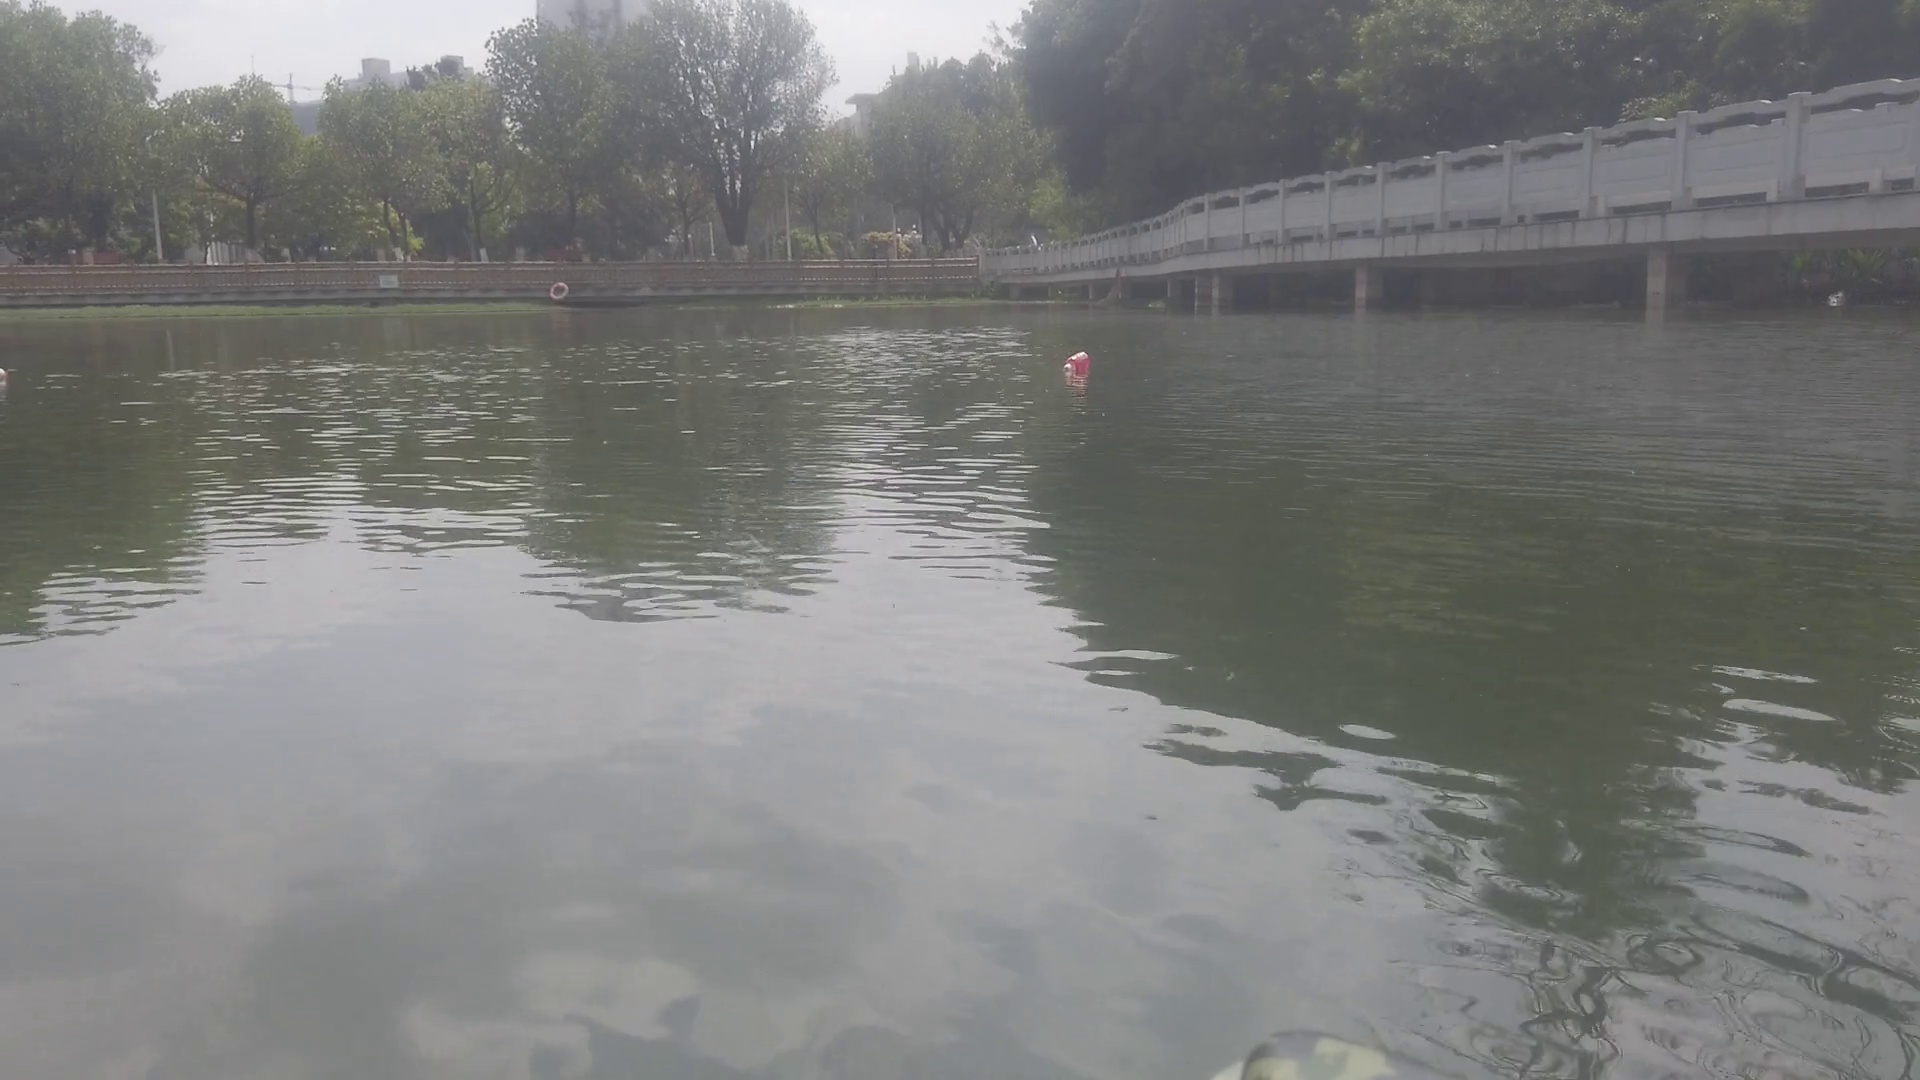bottle: (1059, 349, 1095, 375), (1, 363, 8, 380)
